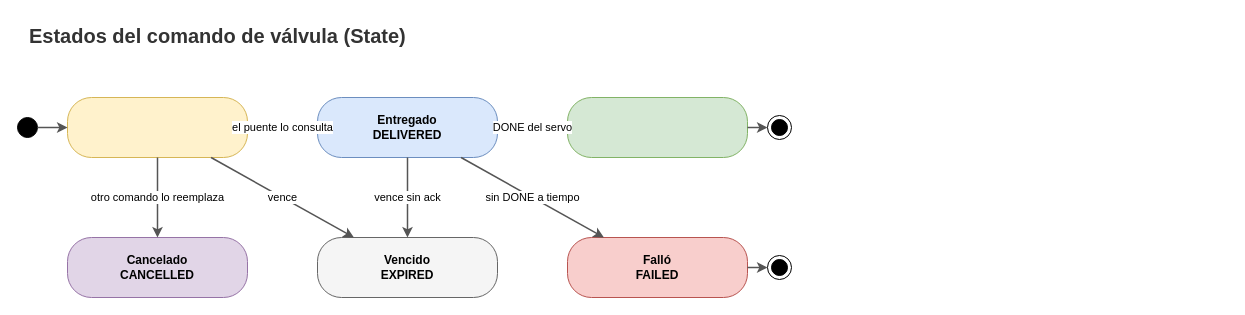
This 1245x315 diagram has some shape labels left out. Here are the shapes that lost their labels. From the top down, the centre of each, then its label:
At (x=157, y=127): "Pendiente PENDING".
At (x=657, y=127): "Confirmado ACKED".
